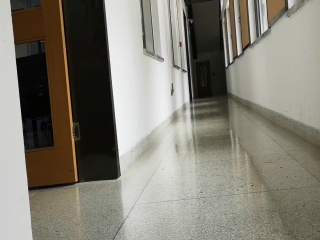room: (10, 1, 122, 185)
